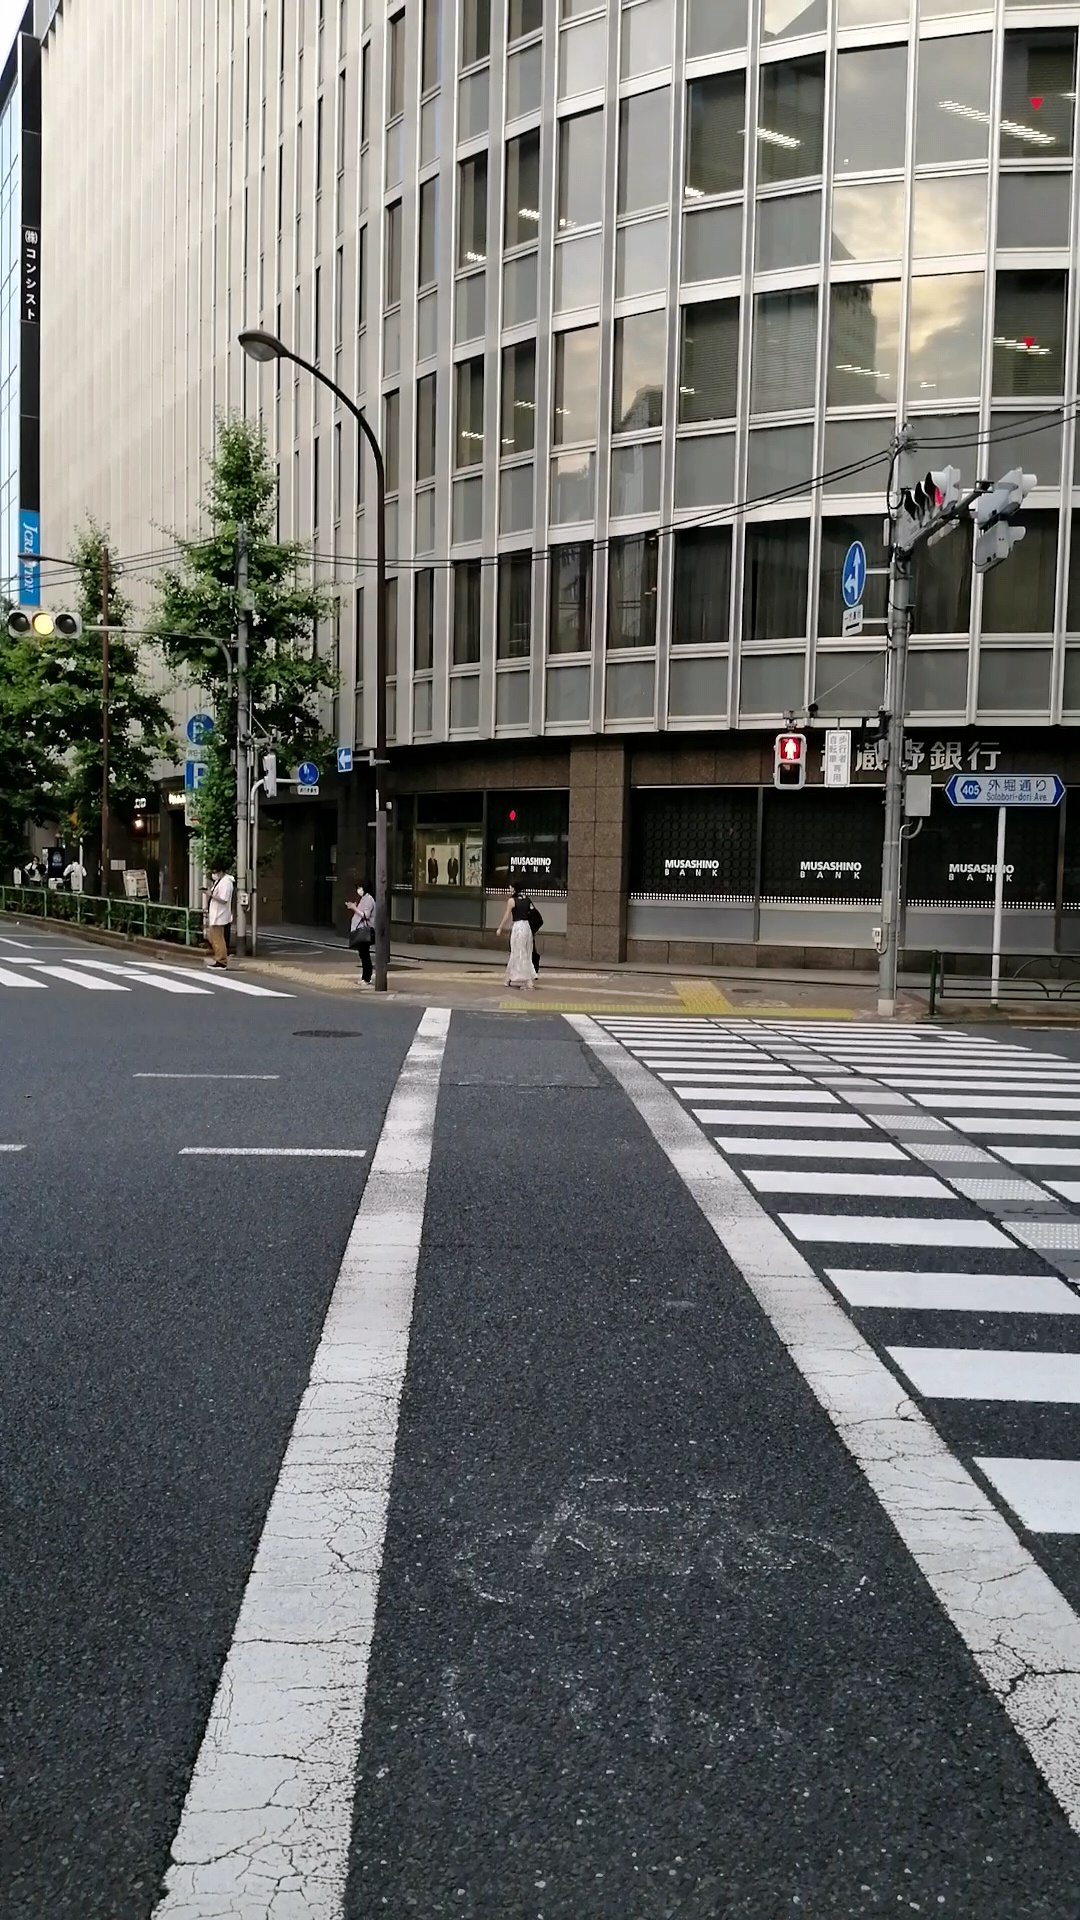red: (773, 733, 804, 790)
